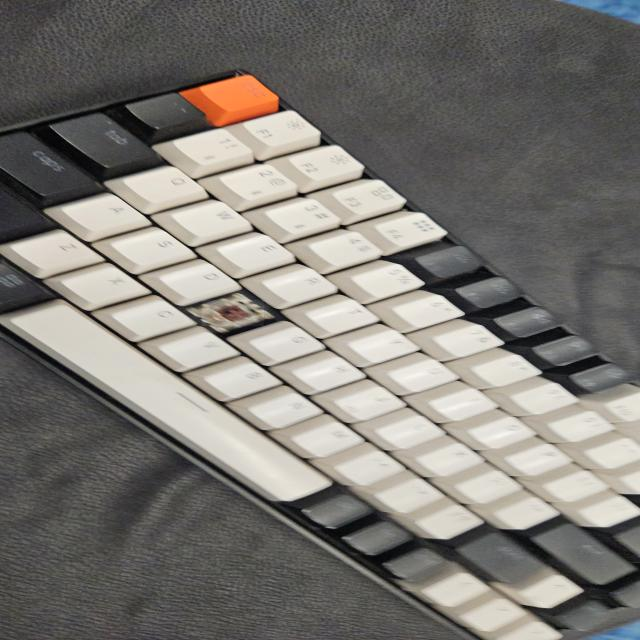C: (202, 300, 264, 326)
